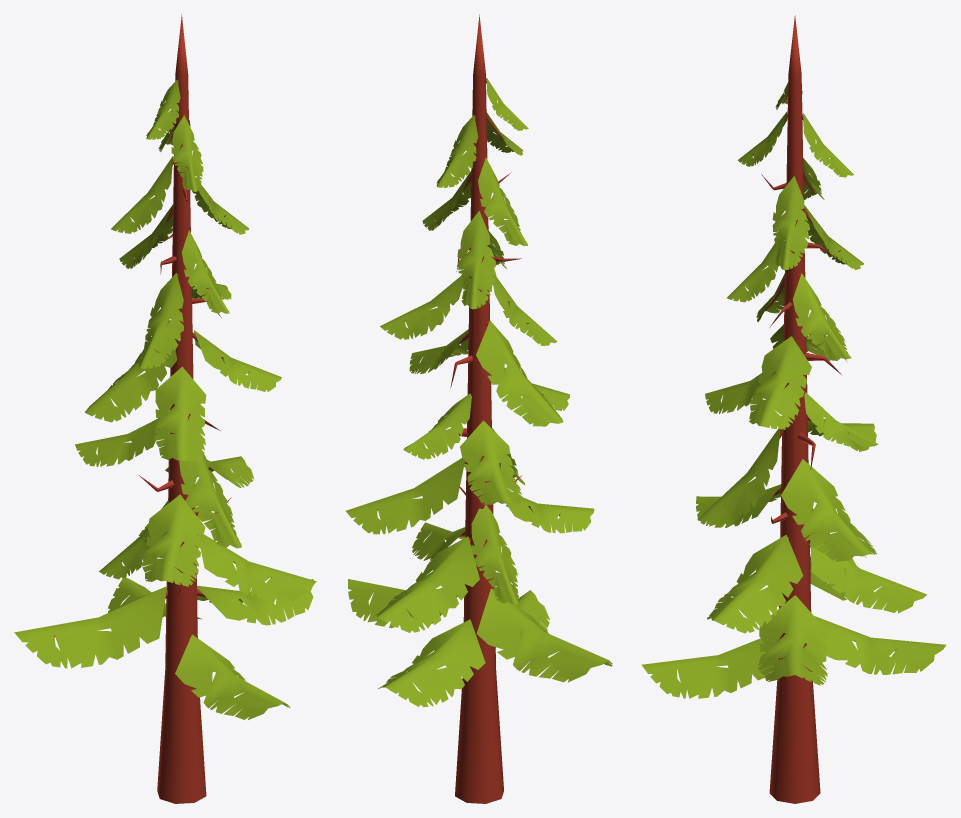
The model's file is Pine1.fbx.
3 views of the same model, side by side, from view 1: azimuth 30°, elevation 25°; view 2: azimuth 150°, elevation 25°; view 3: azimuth 270°, elevation 25° (orthographic).
Visible parts, largest first — view 1: Pine1_LOD0; view 2: Pine1_LOD0; view 3: Pine1_LOD0.
Part boxes in pixels (x1,y1,x2,y2): Pine1_LOD0: (14, 14, 316, 803); Pine1_LOD0: (346, 14, 612, 803); Pine1_LOD0: (641, 15, 946, 803).
Size of what is drawn, in the model's own units: 7.34 by 19.5 by 6.92.
